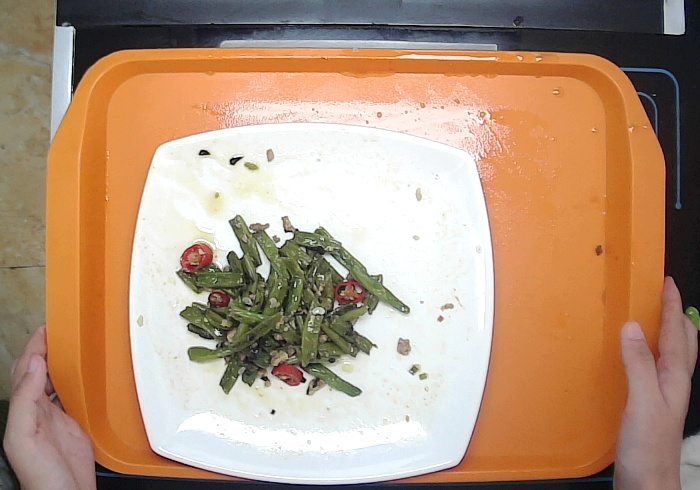ZNLD-Bai_Fang_Pan: (127, 120, 494, 488)
